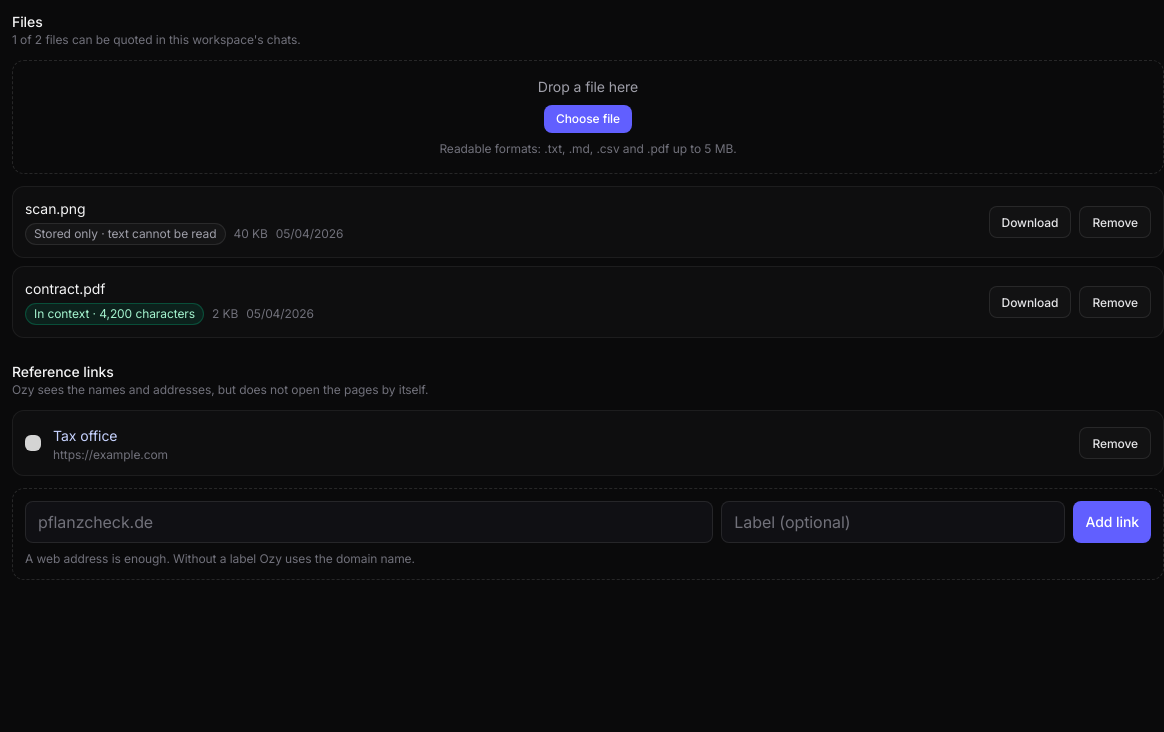
Test: KnowledgeTab › explains an unusable address instead of doing nothing
Type "not a url" into the field named "new-link-url".
click(369, 522); type("not a url")  # box [25,501,713,543]
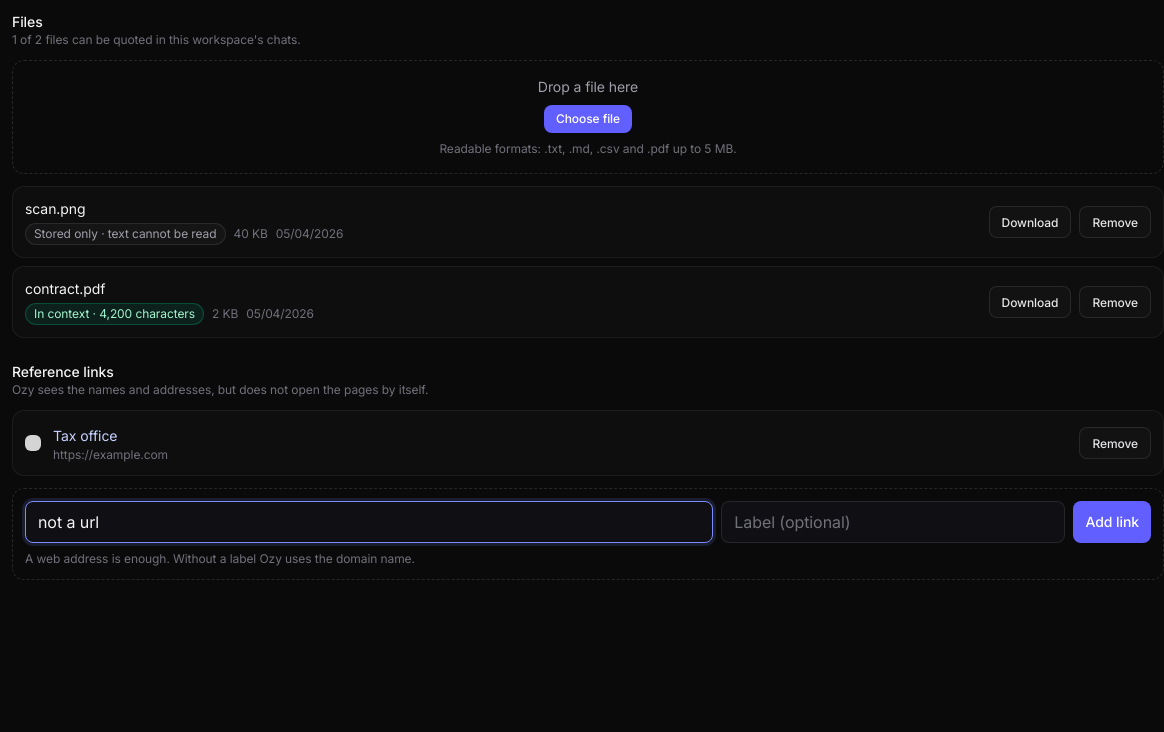
Click the button "Add link".
click(1112, 522)  # box [1074,501,1151,543]
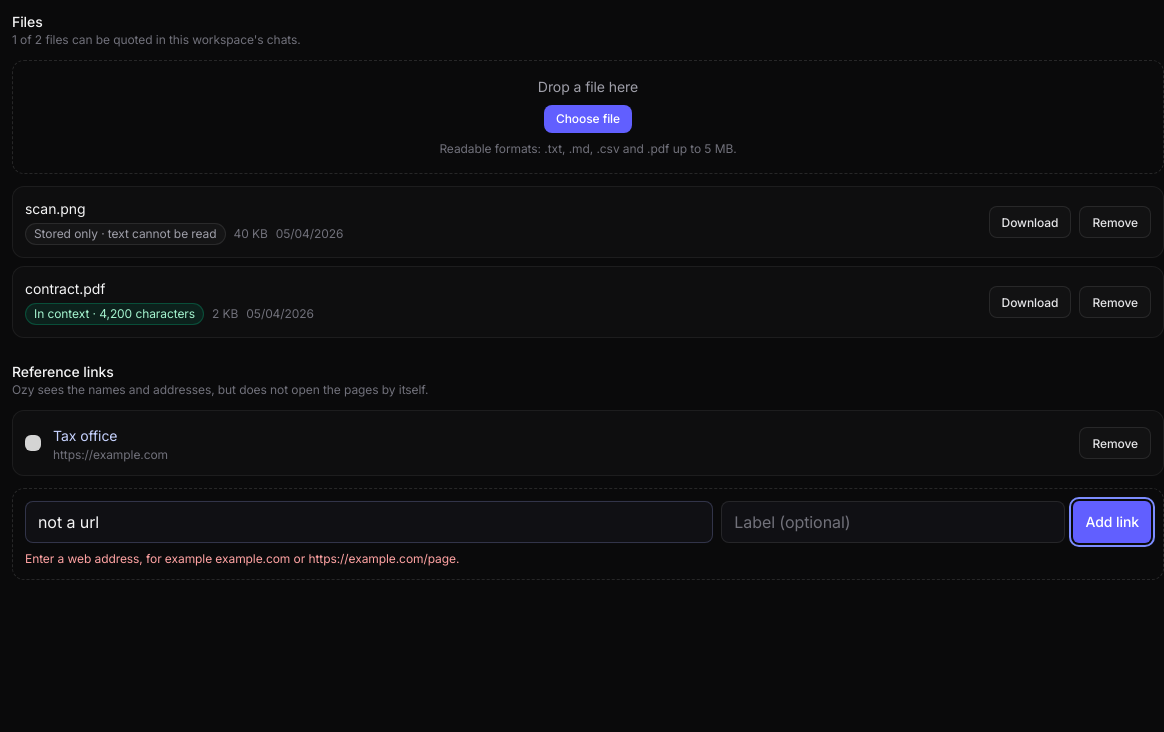
Result: the message shows "Enter a web address" at [25,551,459,566]
